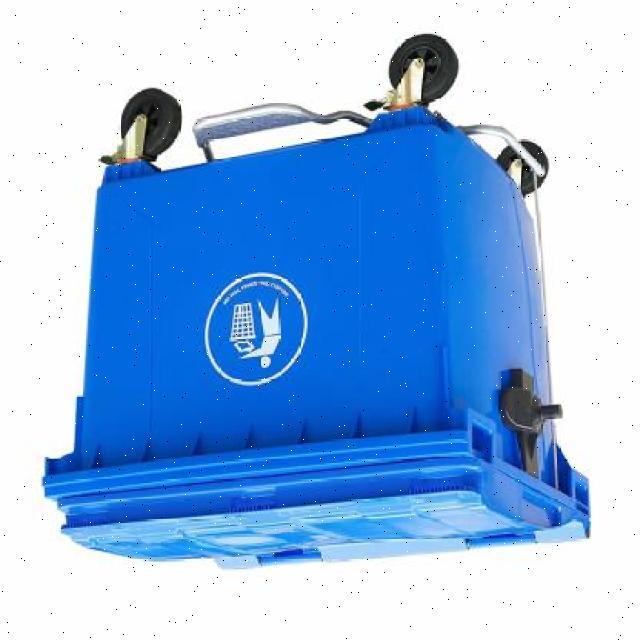garbage container: (30, 17, 615, 582)
